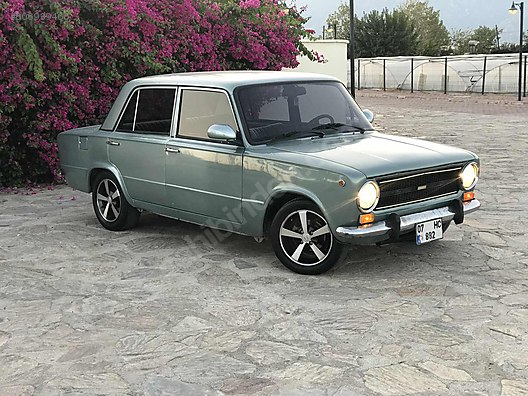murat: (49, 67, 484, 277)
